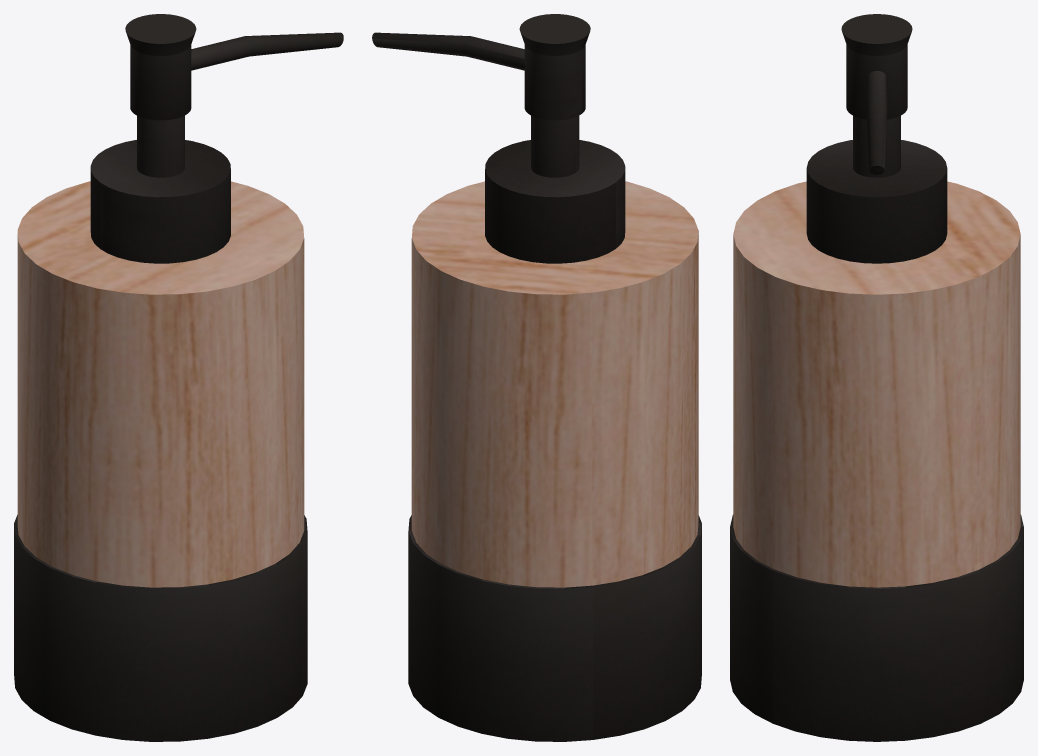
3 views of the same model, side by side, from view 1: azimuth 30°, elevation 25°; view 2: azimuth 150°, elevation 25°; view 3: azimuth 270°, elevation 25° (orthographic).
Visible parts, largest first — view 1: Dispenser_0; view 2: Dispenser_0; view 3: Dispenser_0.
Boxes of the visible parts, bbox=[...] form: Dispenser_0: bbox=[14, 14, 343, 741]; Dispenser_0: bbox=[372, 14, 701, 741]; Dispenser_0: bbox=[730, 14, 1023, 741].
Size of the model in its own units: 0.0868 by 0.175 by 0.0716.
Materials: 1 (1 with a texture image).
